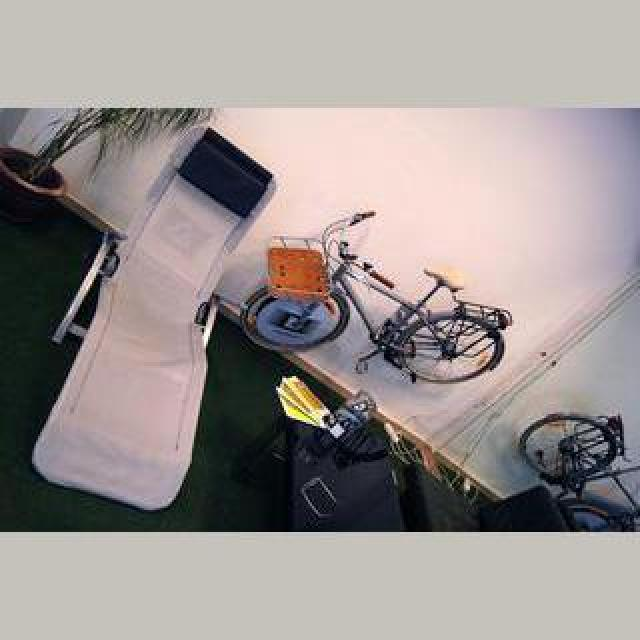Person: (246, 211, 514, 387), (518, 412, 638, 522)
